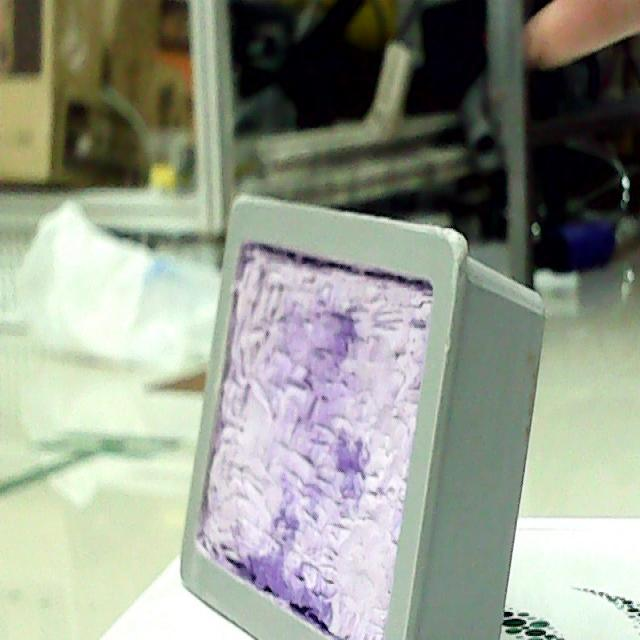block: (166, 194, 547, 640)
